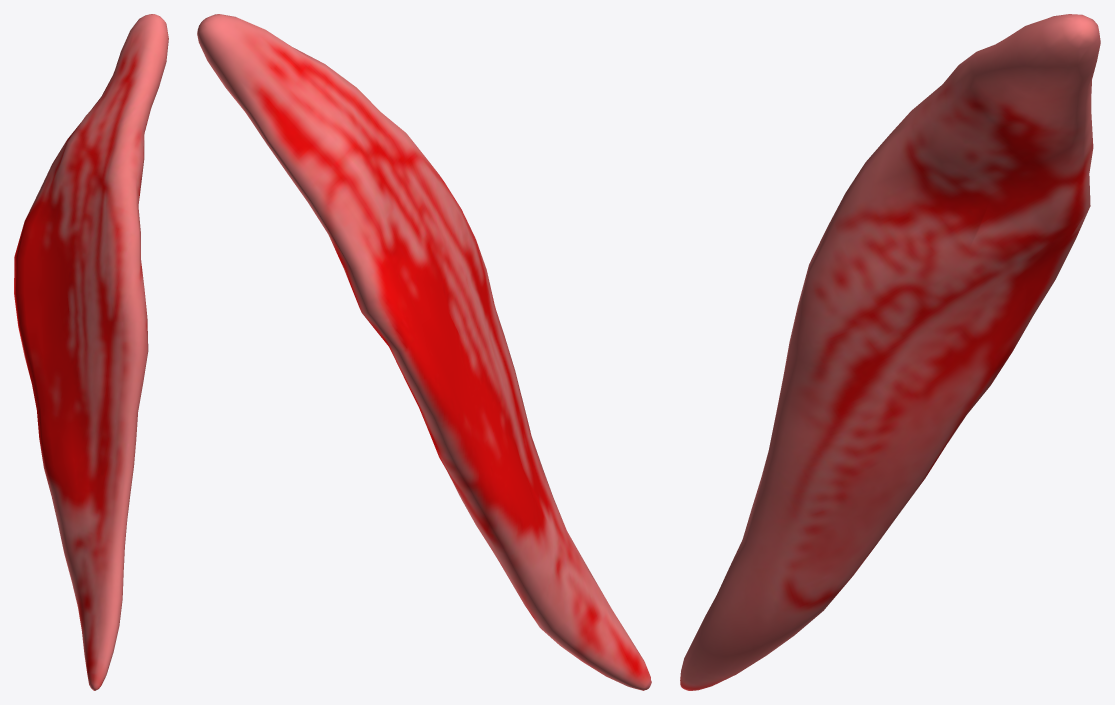
File: Deltoid.glb
The picture shows the model from 3 angles, left to right: view 1: azimuth 30°, elevation 25°; view 2: azimuth 150°, elevation 25°; view 3: azimuth 270°, elevation 25°; orthographic projection. The views are drawn at different scales.
Parts seen in each view (by area): view 1: MuscleDeltoid_R1.006; view 2: MuscleDeltoid_R1.006; view 3: MuscleDeltoid_R1.006.
Boxes of the visible parts, x1,y1,x2,y2 form: MuscleDeltoid_R1.006: (14, 14, 168, 690); MuscleDeltoid_R1.006: (197, 14, 651, 690); MuscleDeltoid_R1.006: (680, 14, 1100, 690).
Size of the model in its own units: 0.1339 by 0.3434 by 0.1614.
Materials: 1 (1 with a texture image).
